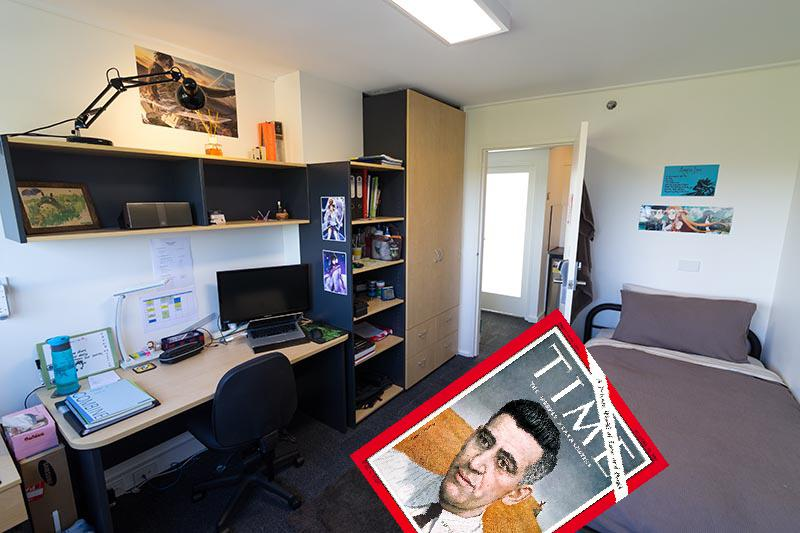times: (344, 307, 672, 533)
